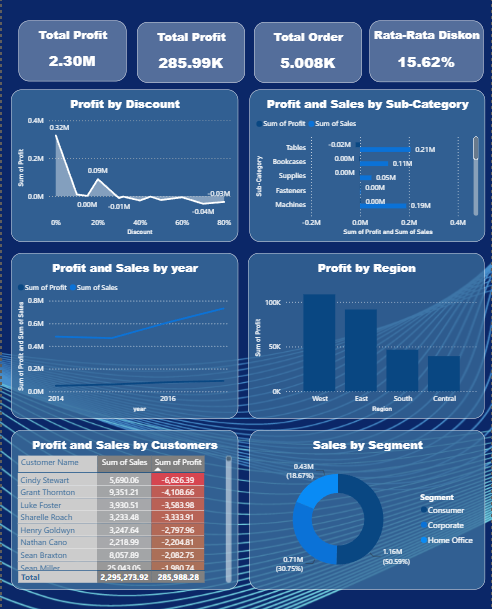

What the dashboard file says about the page in this screenshot:
{"tool":"powerbi","page":{"name":"Page 1","canvas":[816,1056],"ordinal":0},"visuals":[{"type":"cardVisual","title":"Total Profit","fields":{"Data":["Sum(Data.Profit)"]},"box":[224.6,44.1,180,101.4],"z":0},{"type":"cardVisual","title":"Total Order","fields":{"Data":["Count(Data.Order ID)"]},"box":[418.9,44.1,180,101.4],"z":1000},{"type":"cardVisual","title":"Rata-Rata Diskon","fields":{"Data":["Avg(Data.Discount)"]},"box":[611.7,42.7,190,102.9],"z":2000},{"type":"lineChart","title":"Profit by Discount","fields":{"Category":["Data.Discount"],"Y":["Sum(Data.Profit)"]},"box":[15.7,158.6,378.6,254.3],"z":3000},{"type":"clusteredBarChart","title":"Profit and Sales by Sub-Category","fields":{"Category":["Data.Sub-Category"],"Y":["Sum(Data.Profit)","Sum(Data.Sales)"]},"box":[411.4,158.6,392.9,254.3],"z":4000},{"type":"clusteredColumnChart","title":"Profit by Region","fields":{"Category":["Data.Region"],"Y":["Sum(Data.Profit)"]},"box":[410,430.7,394.3,275.7],"z":5000},{"type":"tableEx","title":"Profit and Sales by Customers","fields":{"Values":["Data.Customer Name","Sum(Data.Sales)","Sum(Data.Profit)"]},"box":[15.7,725,378.6,265.7],"z":6000},{"type":"lineChart","title":"Profit and Sales by year","fields":{"Category":["Data.year"],"Y":["Sum(Data.Profit)","Sum(Data.Sales)"]},"box":[15.7,430.7,378.6,275.7],"z":7000},{"type":"donutChart","title":"Sales by Segment","fields":{"Category":["Data.Segment"],"Y":["Sum(Data.Sales)"]},"box":[411.4,725,392.9,265.7],"z":8000},{"type":"cardVisual","title":"Total Sales","fields":{"Data":["Sum(Data.Sales)"]},"box":[28.4,42.2,180,101.4],"z":9000}]}

Visuals, with their boxes in screenshot pixels (x1, y1, x2, y2):
"Total Profit" cardVisual: [left=137, top=37, right=243, bottom=97]
"Total Order" cardVisual: [left=252, top=37, right=358, bottom=97]
"Rata-Rata Diskon" cardVisual: [left=365, top=36, right=477, bottom=97]
"Profit by Discount" lineChart: [left=14, top=105, right=237, bottom=255]
"Profit and Sales by Sub-Category" clusteredBarChart: [left=247, top=105, right=479, bottom=255]
"Profit by Region" clusteredColumnChart: [left=247, top=265, right=479, bottom=428]
"Profit and Sales by Customers" tableEx: [left=14, top=439, right=237, bottom=595]
"Profit and Sales by year" lineChart: [left=14, top=265, right=237, bottom=428]
"Sales by Segment" donutChart: [left=247, top=439, right=479, bottom=595]
"Total Sales" cardVisual: [left=22, top=36, right=128, bottom=96]
